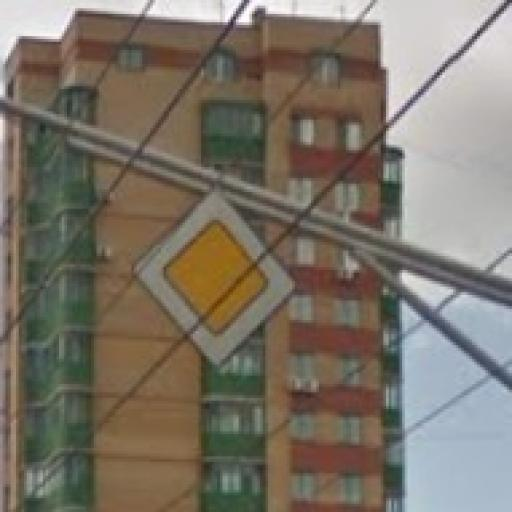traffic_sign: (130, 185, 301, 374)
